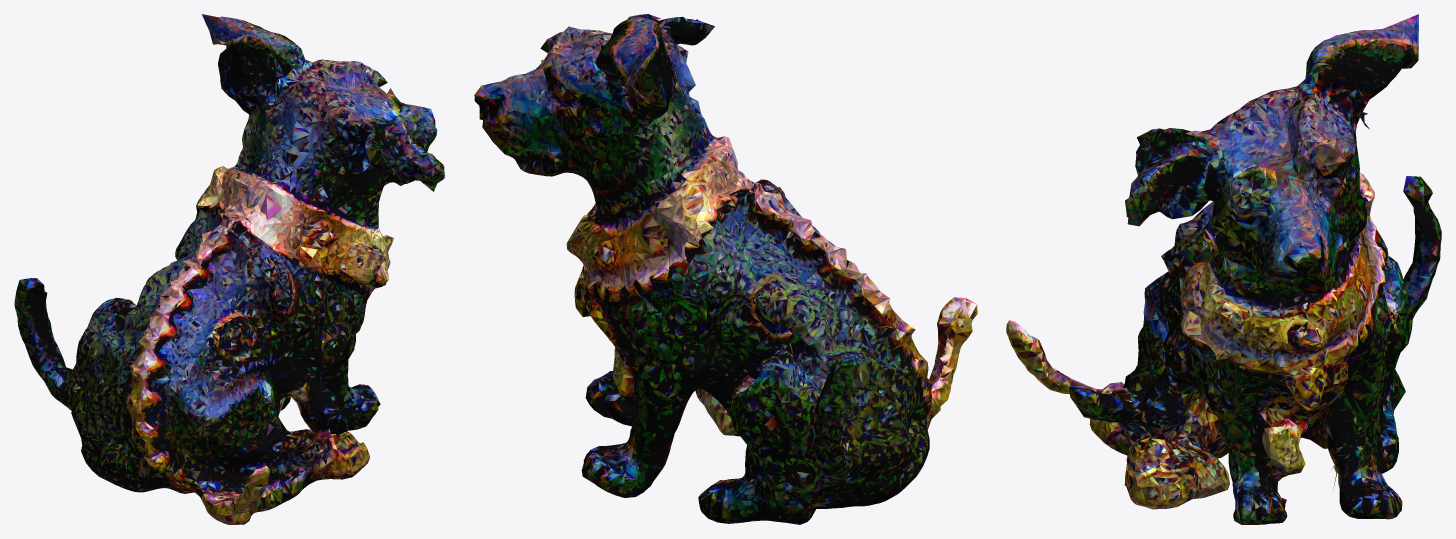
File: black_dog-canny.glb
3 views of the same model, side by side, from view 1: azimuth 30°, elevation 25°; view 2: azimuth 150°, elevation 25°; view 3: azimuth 270°, elevation 25° (orthographic). The views are drawn at different scales.
Visible parts, largest first — view 1: extracted_mesh; view 2: extracted_mesh; view 3: extracted_mesh.
Part boxes in pixels (<box>): extracted_mesh: <box>14,14,444,524</box>; extracted_mesh: <box>474,14,977,524</box>; extracted_mesh: <box>1006,14,1441,524</box>.
Bounding box in the file's own units: 0.9741 × 1.04 × 0.8197.
1 material, 1 textured.
